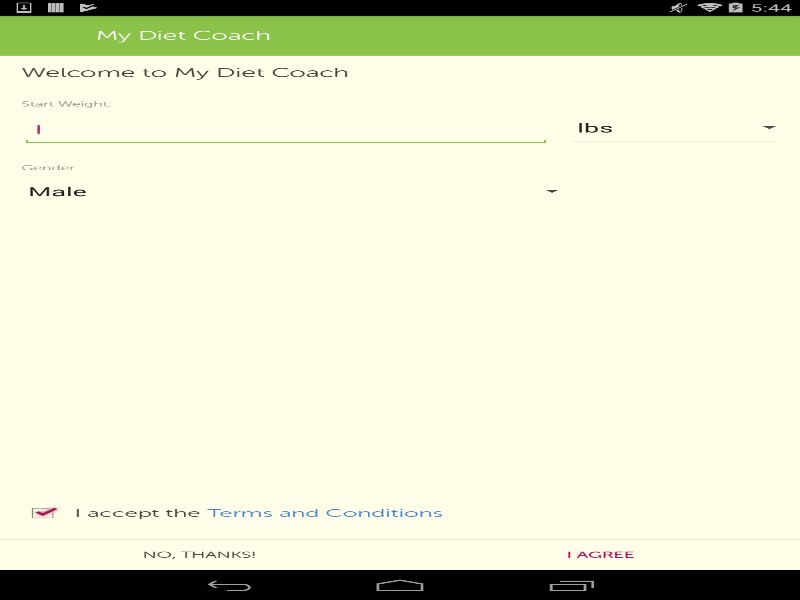Button: (400, 540, 800, 570), (0, 540, 399, 570)
Input: (21, 115, 550, 145)
